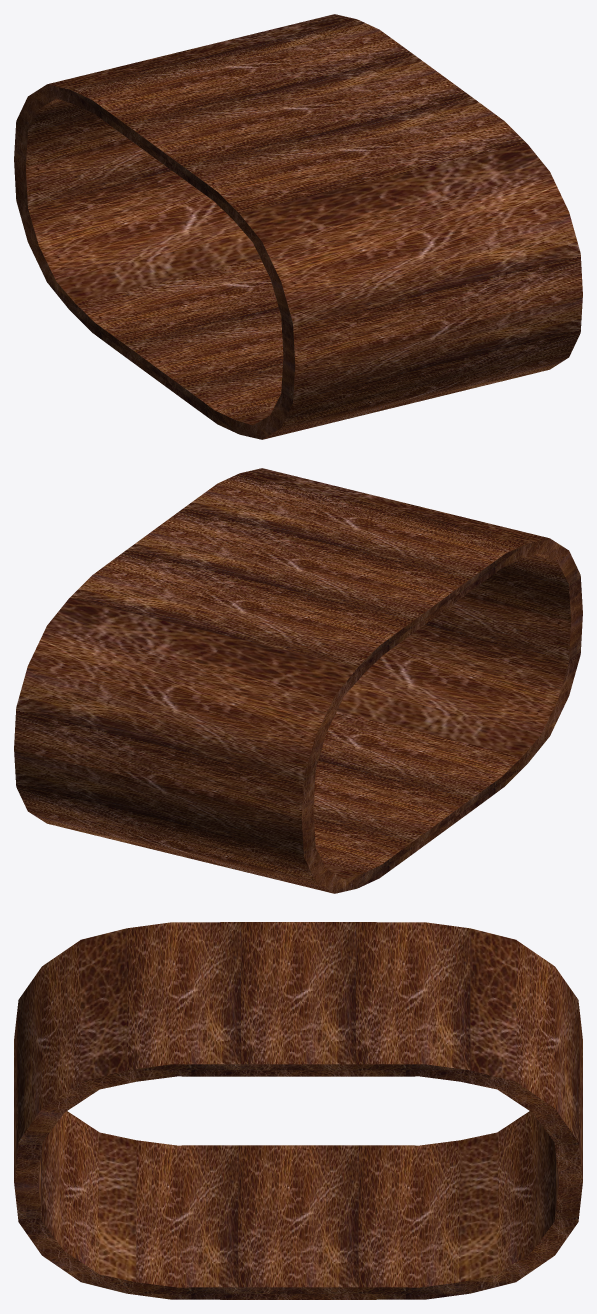
The model's file is Strap.fbx.
3 views of the same model, one above another, from view 1: azimuth 30°, elevation 25°; view 2: azimuth 150°, elevation 25°; view 3: azimuth 270°, elevation 25° (orthographic).
Parts seen in each view (by area): view 1: Strap; view 2: Strap; view 3: Strap.
Part boxes in pixels (bbox=[...]): Strap: bbox=[14, 14, 582, 439]; Strap: bbox=[14, 468, 582, 893]; Strap: bbox=[14, 922, 582, 1299].
Size of the model in its own units: 2810 by 2174 by 4758.
1 material, 1 textured.
